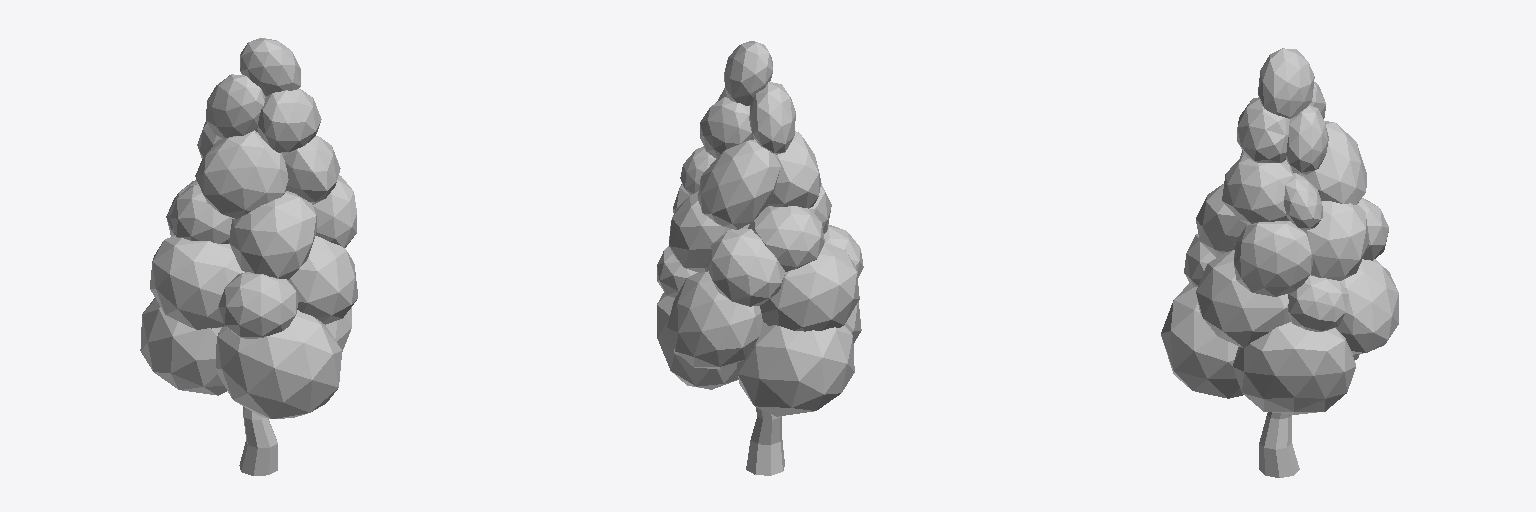
File: Popular_tree.obj
3 renders of one model, left to right at view 1: azimuth 30°, elevation 25°; view 2: azimuth 150°, elevation 25°; view 3: azimuth 270°, elevation 25°, orthographic.
Visible parts, largest first — view 1: Poplar_Cylinder.003; view 2: Poplar_Cylinder.003; view 3: Poplar_Cylinder.003.
Boxes of the visible parts, box(x1,y1,x2,y2) form: Poplar_Cylinder.003: box(140, 38, 357, 475); Poplar_Cylinder.003: box(657, 41, 863, 475); Poplar_Cylinder.003: box(1161, 48, 1398, 477).
Size of the model in its own units: 2.69 by 5.82 by 2.96.